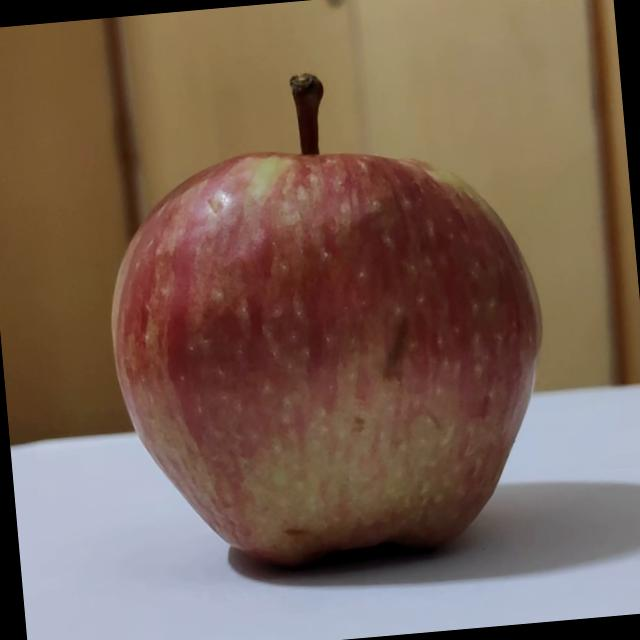apple: (77, 53, 570, 592)
